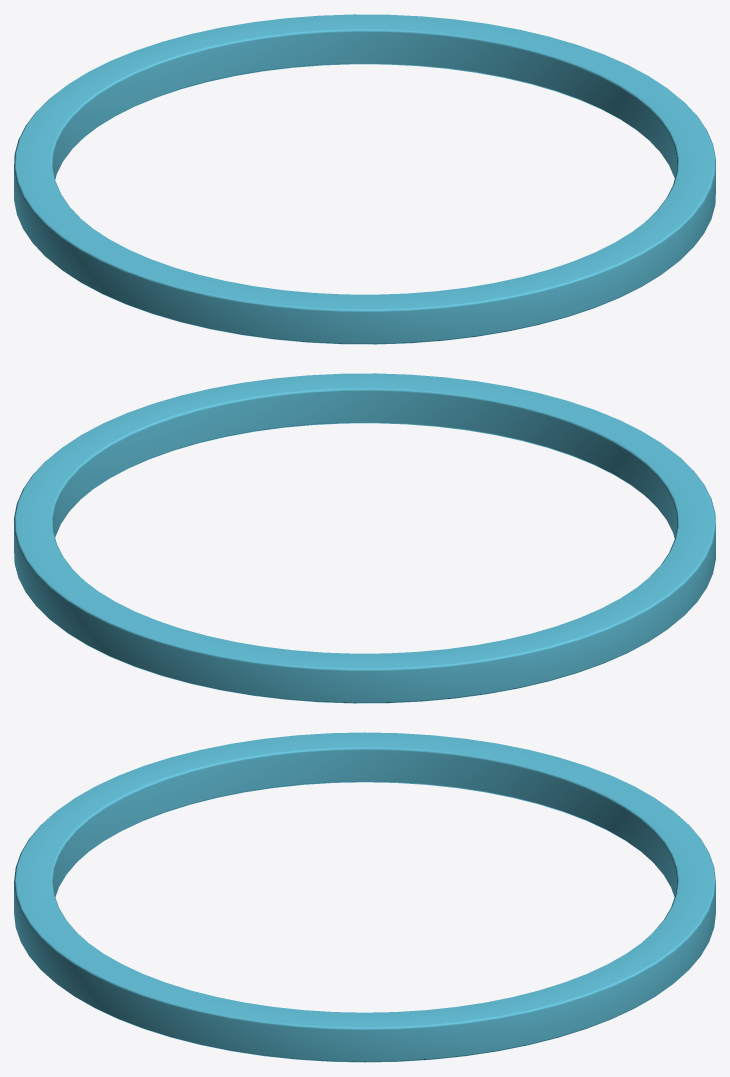
3 views of the same model, one above another, from view 1: azimuth 30°, elevation 25°; view 2: azimuth 150°, elevation 25°; view 3: azimuth 270°, elevation 25° (orthographic).
Parts seen in each view (by area): view 1: seal_body; view 2: seal_body; view 3: seal_body.
Part boxes in pixels (bbox=[...]): seal_body: bbox=[14, 14, 715, 344]; seal_body: bbox=[14, 373, 715, 703]; seal_body: bbox=[14, 732, 715, 1062].
Size of the model in its own units: 0.1715 by 0.00952 by 0.1715.
